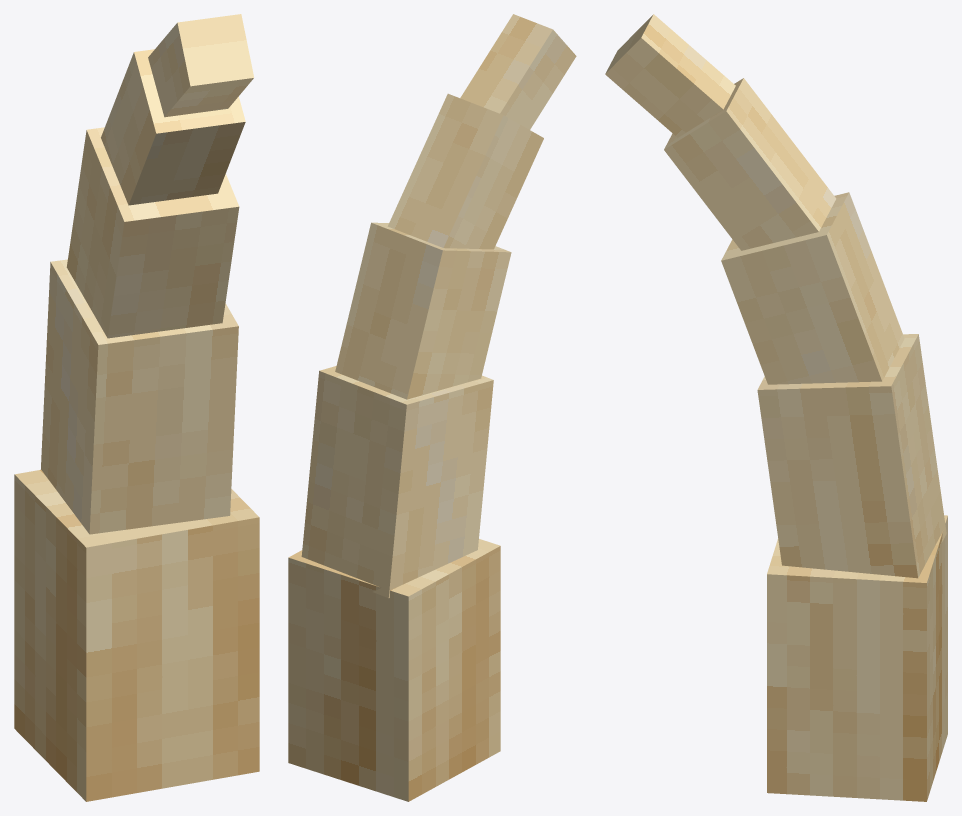
Rendered from horn_s_2.obj.
3 views of the same model, side by side, from view 1: azimuth 30°, elevation 25°; view 2: azimuth 150°, elevation 25°; view 3: azimuth 270°, elevation 25° (orthographic). The views are drawn at different scales.
Parts seen in each view (by area): view 1: cube; view 2: cube; view 3: cube.
Part boxes in pixels (x1=…): cube: x1=14, y1=14, x2=259, y2=801; cube: x1=288, y1=14, x2=576, y2=801; cube: x1=605, y1=14, x2=947, y2=801.
Bounding box in the file's own units: 0.4795 × 2.1 × 0.9081.
